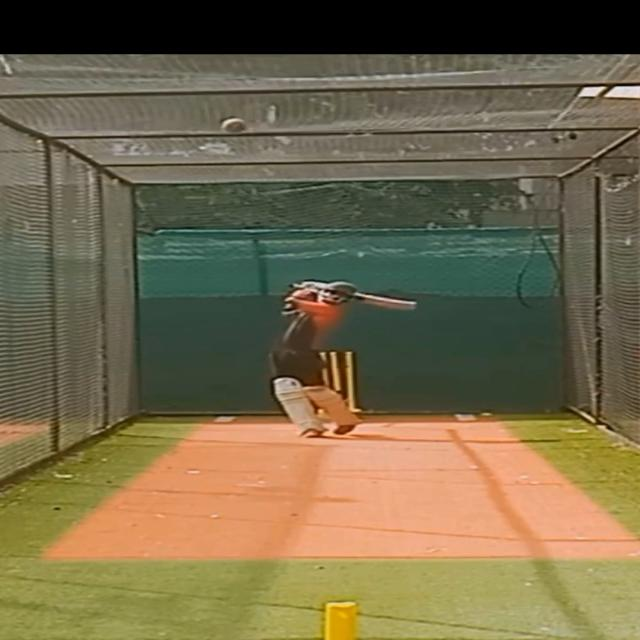ball: (218, 116, 252, 135)
stump: (306, 349, 361, 416)
